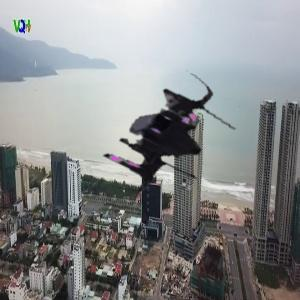drone: (92, 63, 239, 210)
